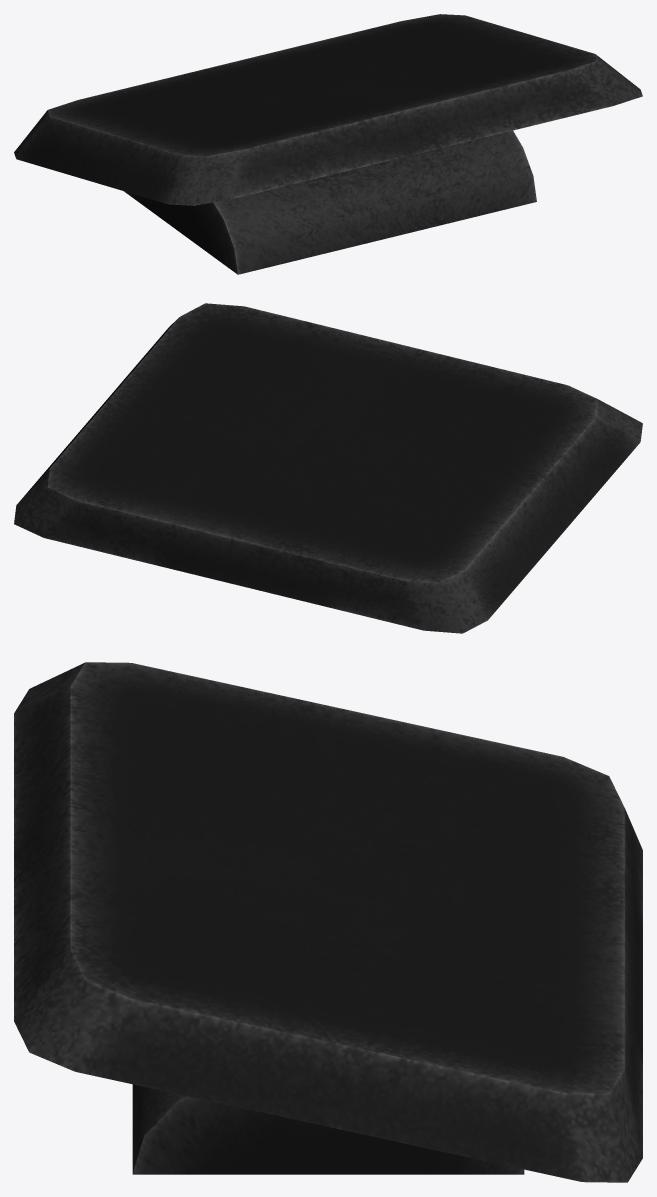
File: reposa_pies.fbx
3 renders of one model, top to bottom at view 1: azimuth 30°, elevation 25°; view 2: azimuth 150°, elevation 25°; view 3: azimuth 270°, elevation 25°, orthographic. The views are drawn at different scales.
Parts seen in each view (by area): view 1: reposa_pies; view 2: reposa_pies; view 3: reposa_pies.
Part boxes in pixels (bbox=[...]): reposa_pies: bbox=[14, 14, 642, 274]; reposa_pies: bbox=[14, 303, 642, 633]; reposa_pies: bbox=[14, 662, 642, 1182].
Bounding box in the file's own units: 54.51 × 15.67 × 37.92.
Materials: 1 (1 with a texture image).
